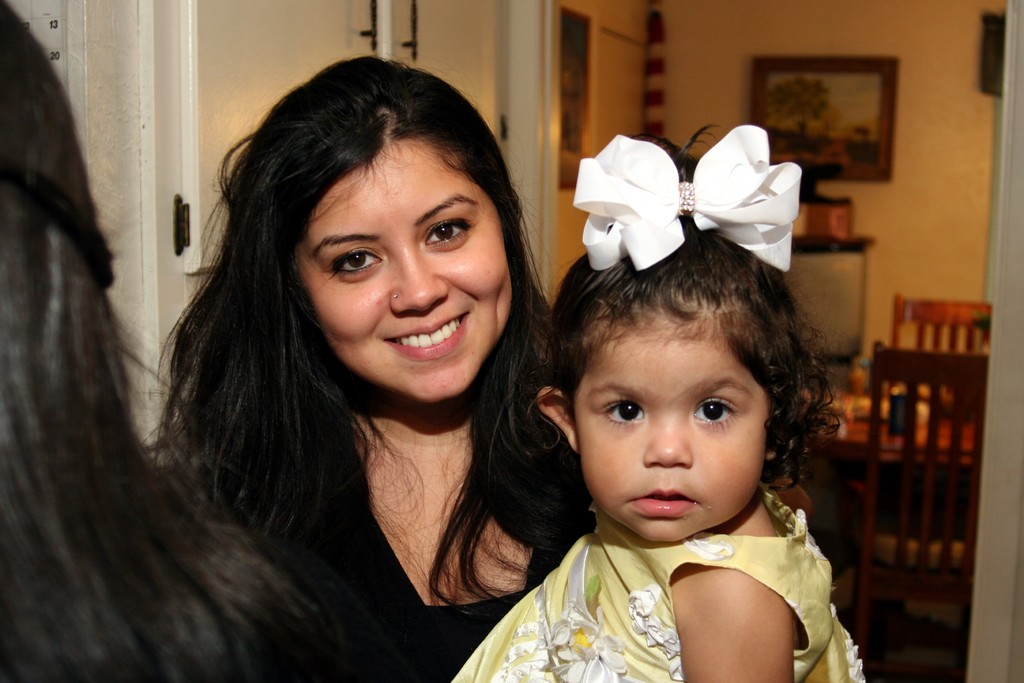Human-face: (294, 136, 518, 392), (572, 321, 774, 545)
